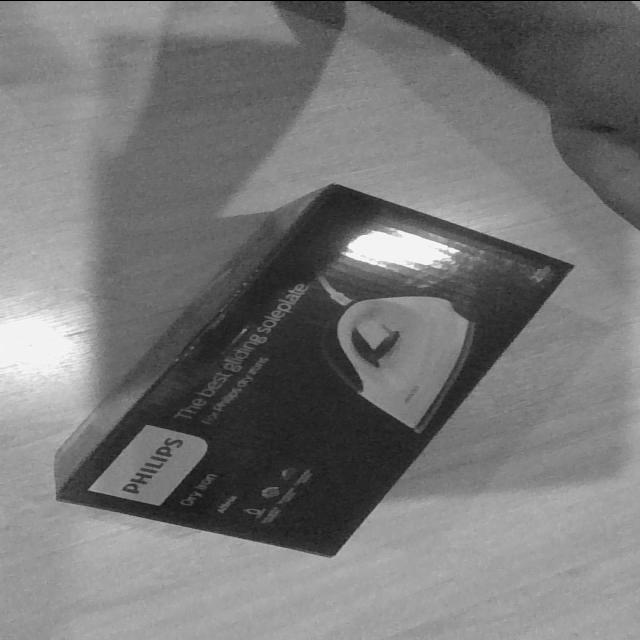IRON: (49, 181, 578, 559)
